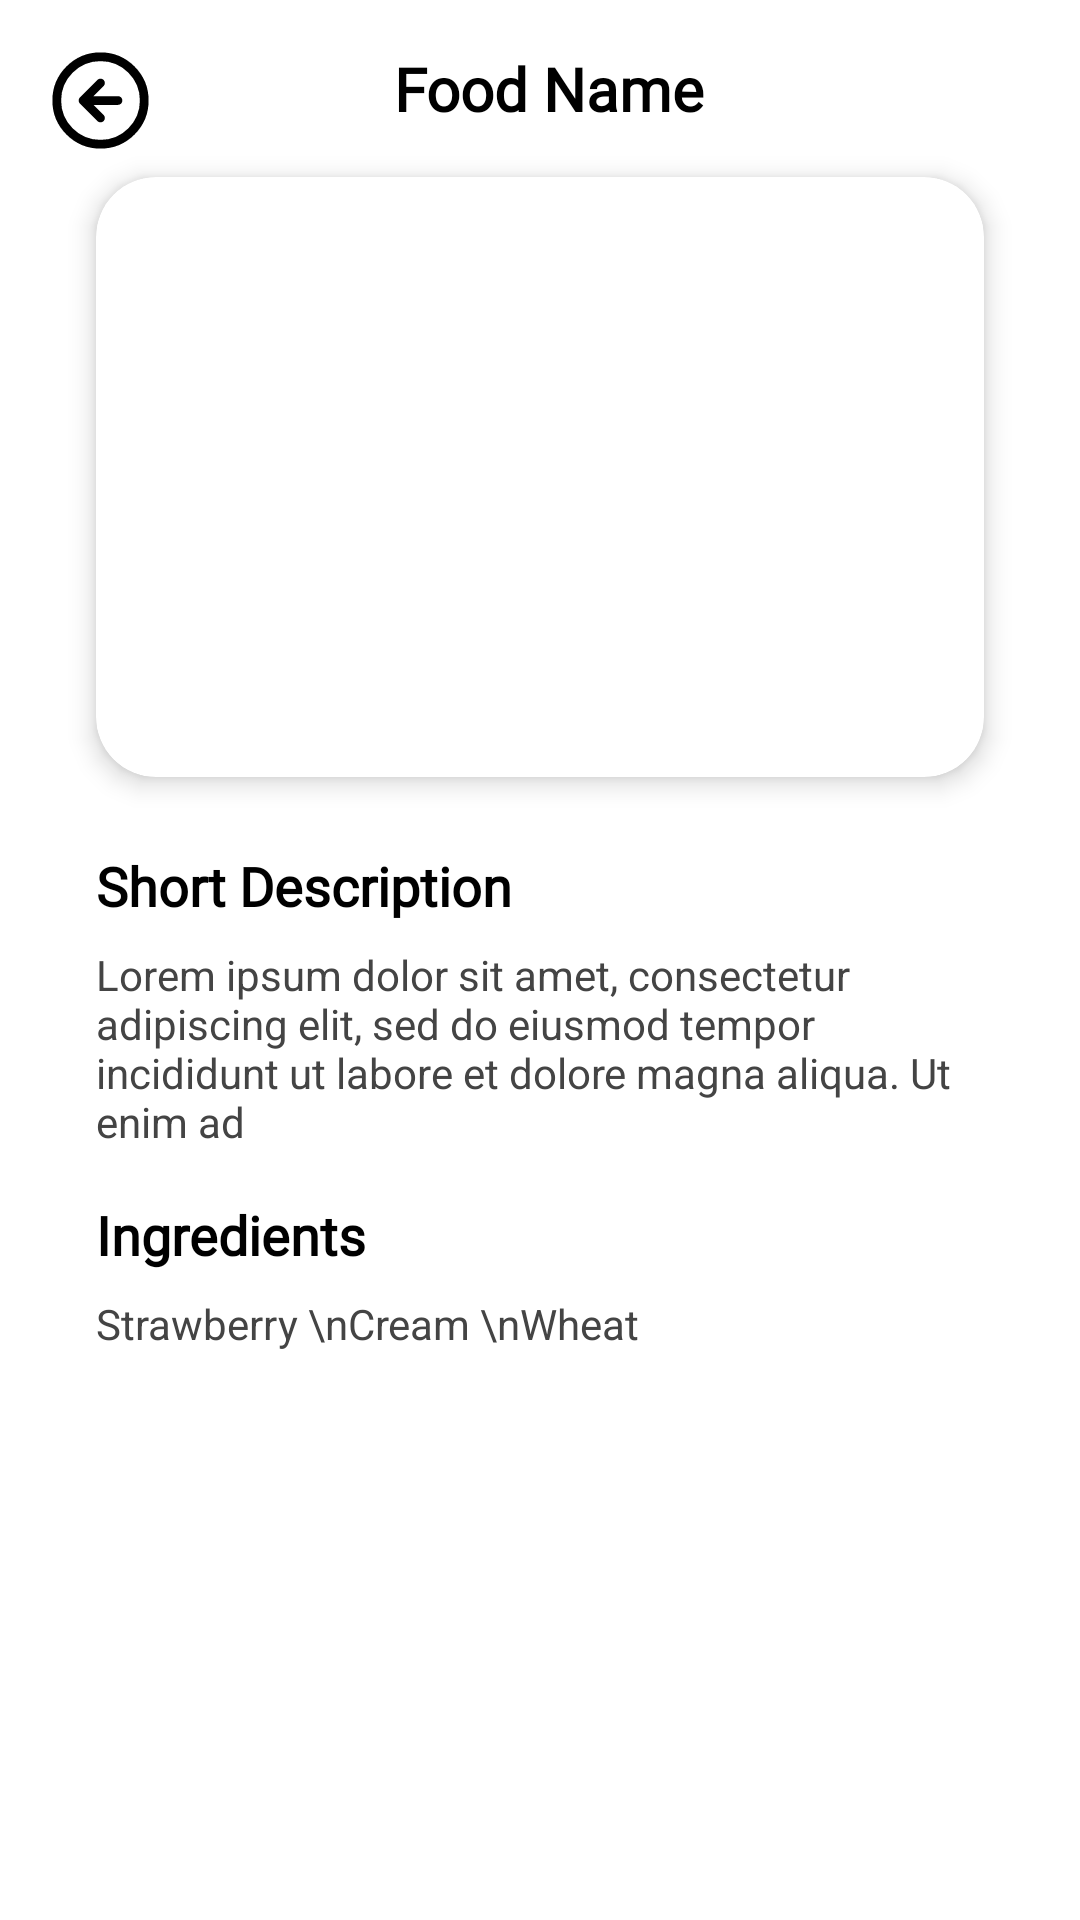

Screen size 1080*1920. Icon name, then its center in pixels as (x=x, y=y):
arrow circle left: (x=100, y=100)
